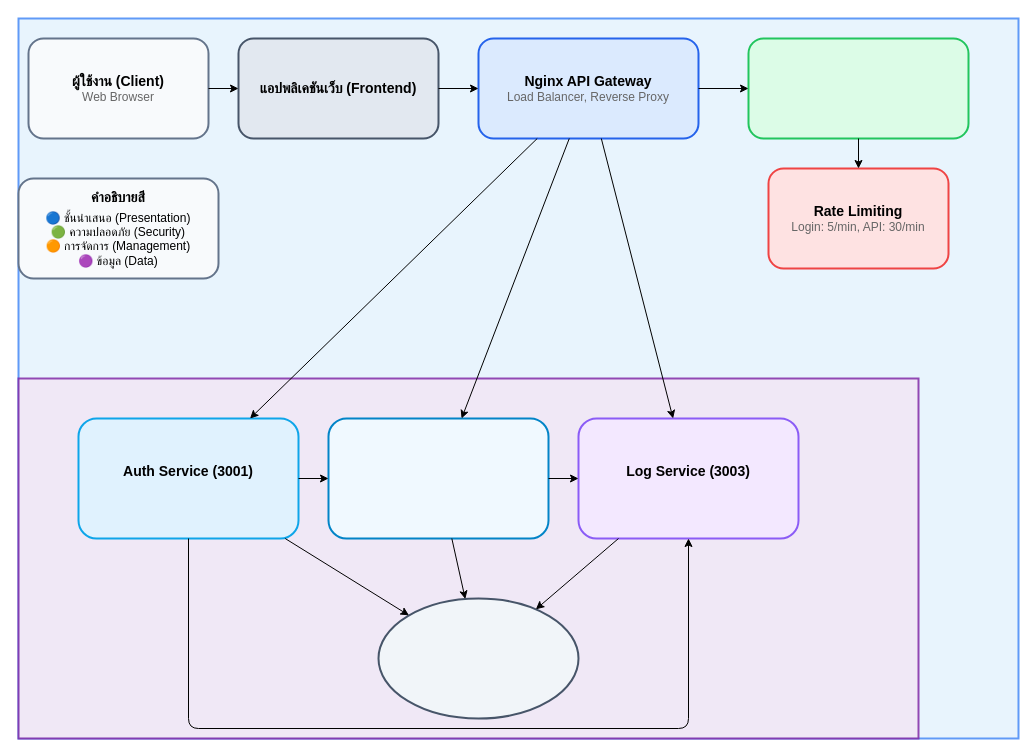
The diagram is 1036 pixels wide and 756 high, and some of its shapes have lost their labels. The shapes that lost their labels are listed below. From the top down, each one's centre as x and y in pixels, then its label:
(858,88): TLS/SSL Termination HTTPS → HTTP
(438,478): Task Service (3002)
(478,658): PostgreSQL Database Users, Tasks, Logs
